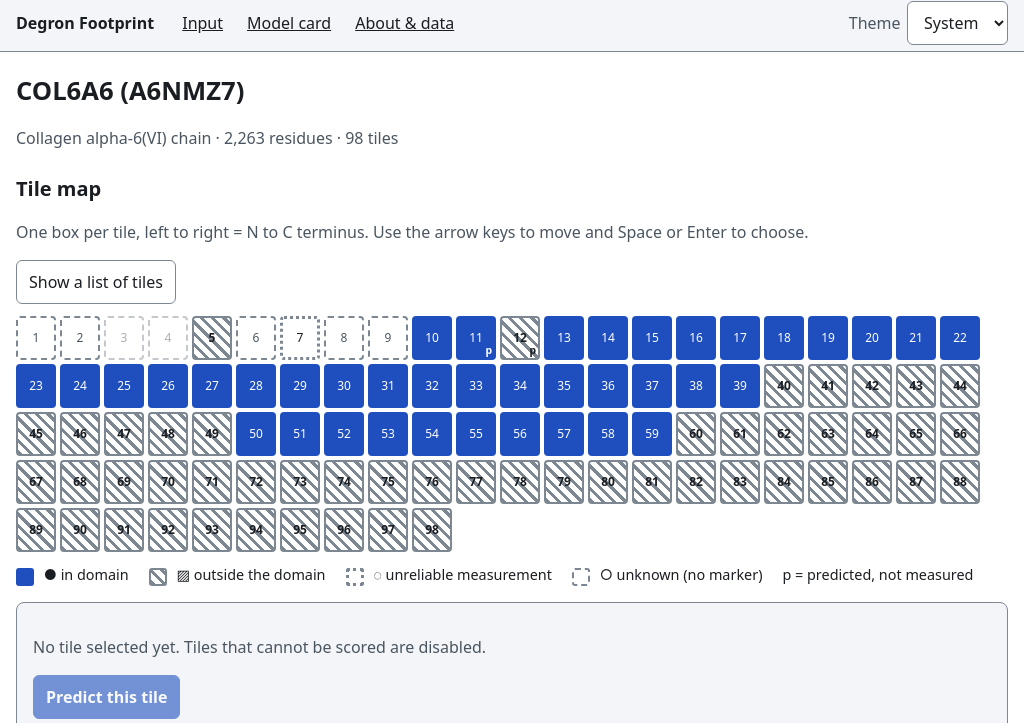
Test case: E2E-04 choose a protein › shows the list view for keyboard and screen-reader users, with non-scorable tiles disabled
Expected: the heading "COL6A6 (A6NMZ7)" is shown, [16, 73, 244, 108]
Click the button "Show a list of tiles" at (96, 282), box [16, 260, 176, 304]
(page scrolled)
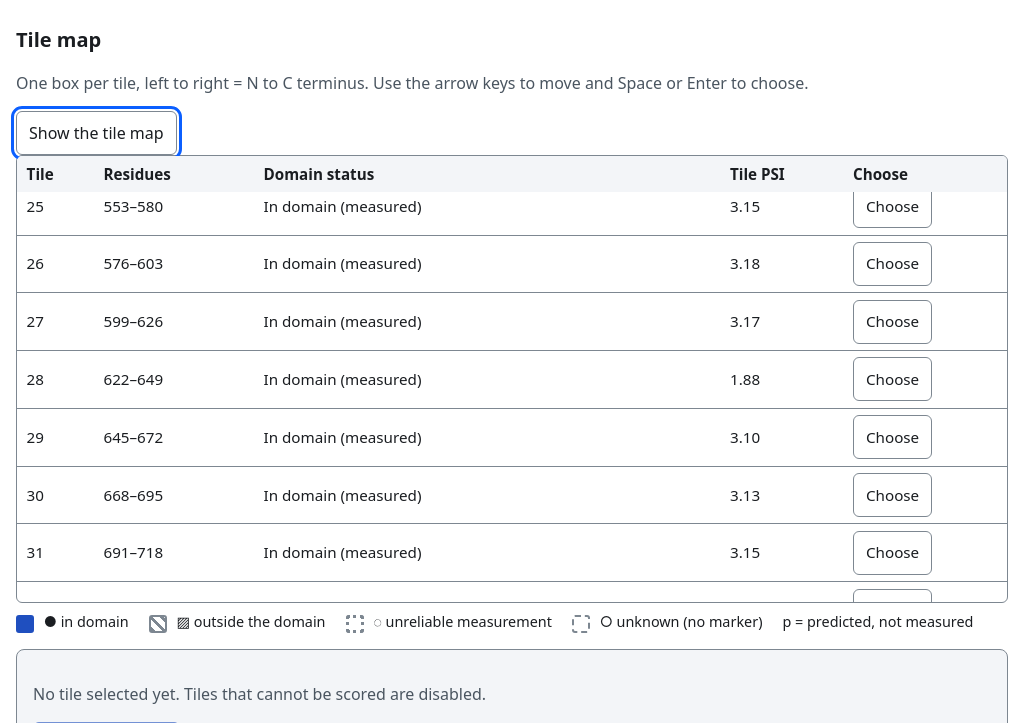
Click the button with aria-label "Choose tile 28," at (893, 380), box [853, 358, 932, 402]
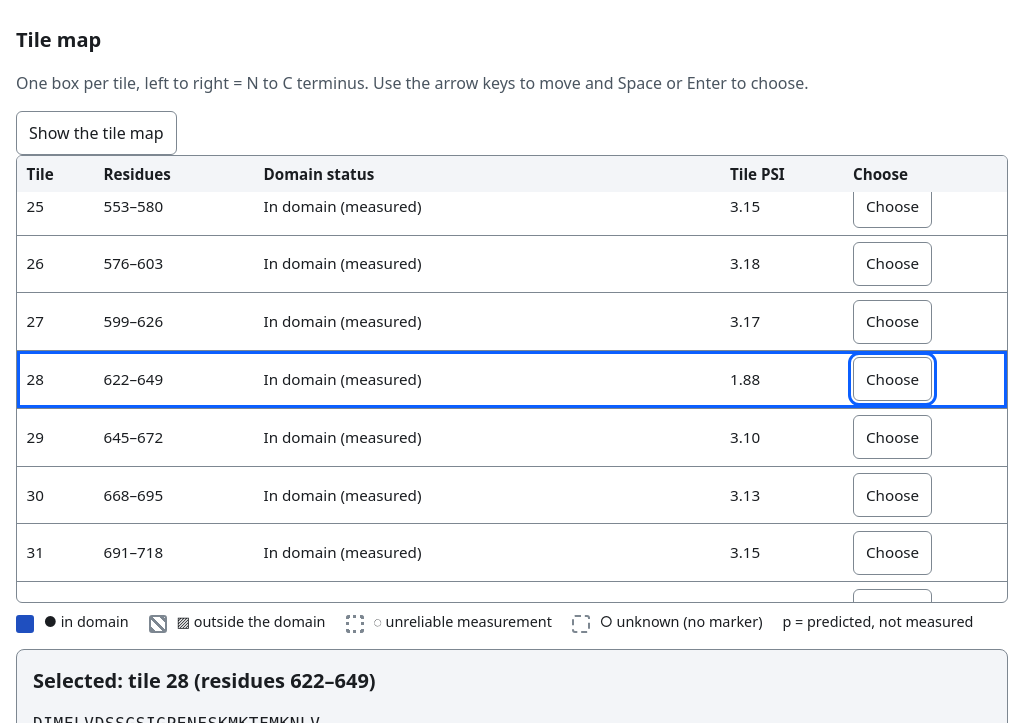
Now the heading "Selected: tile 28 (residues 622–649)" is shown, box [33, 667, 376, 694]
